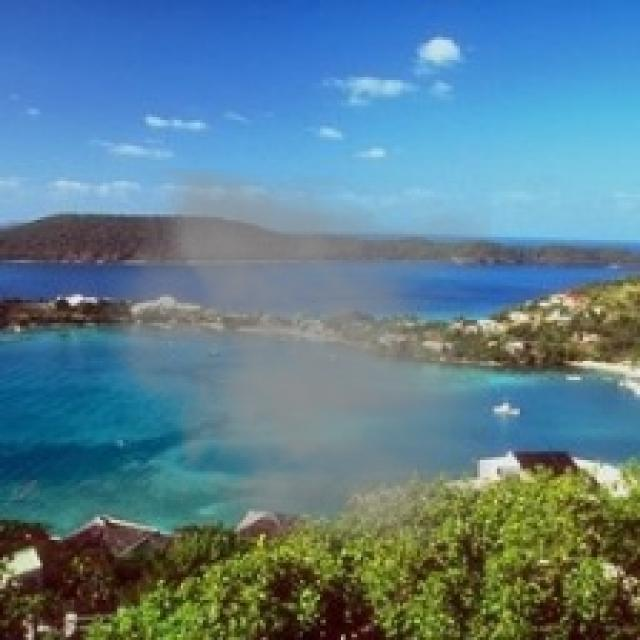smoke: (89, 168, 492, 552)
